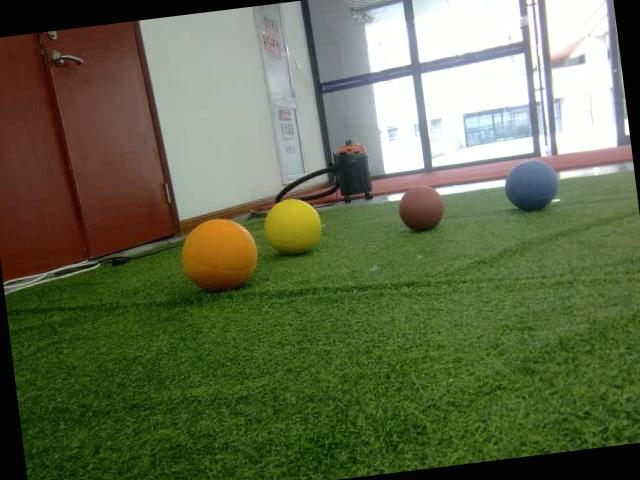blue_ball: (502, 157, 562, 214)
orange_ball: (178, 214, 262, 294)
red_ball: (396, 184, 448, 236)
yellow_ball: (259, 196, 326, 257)
